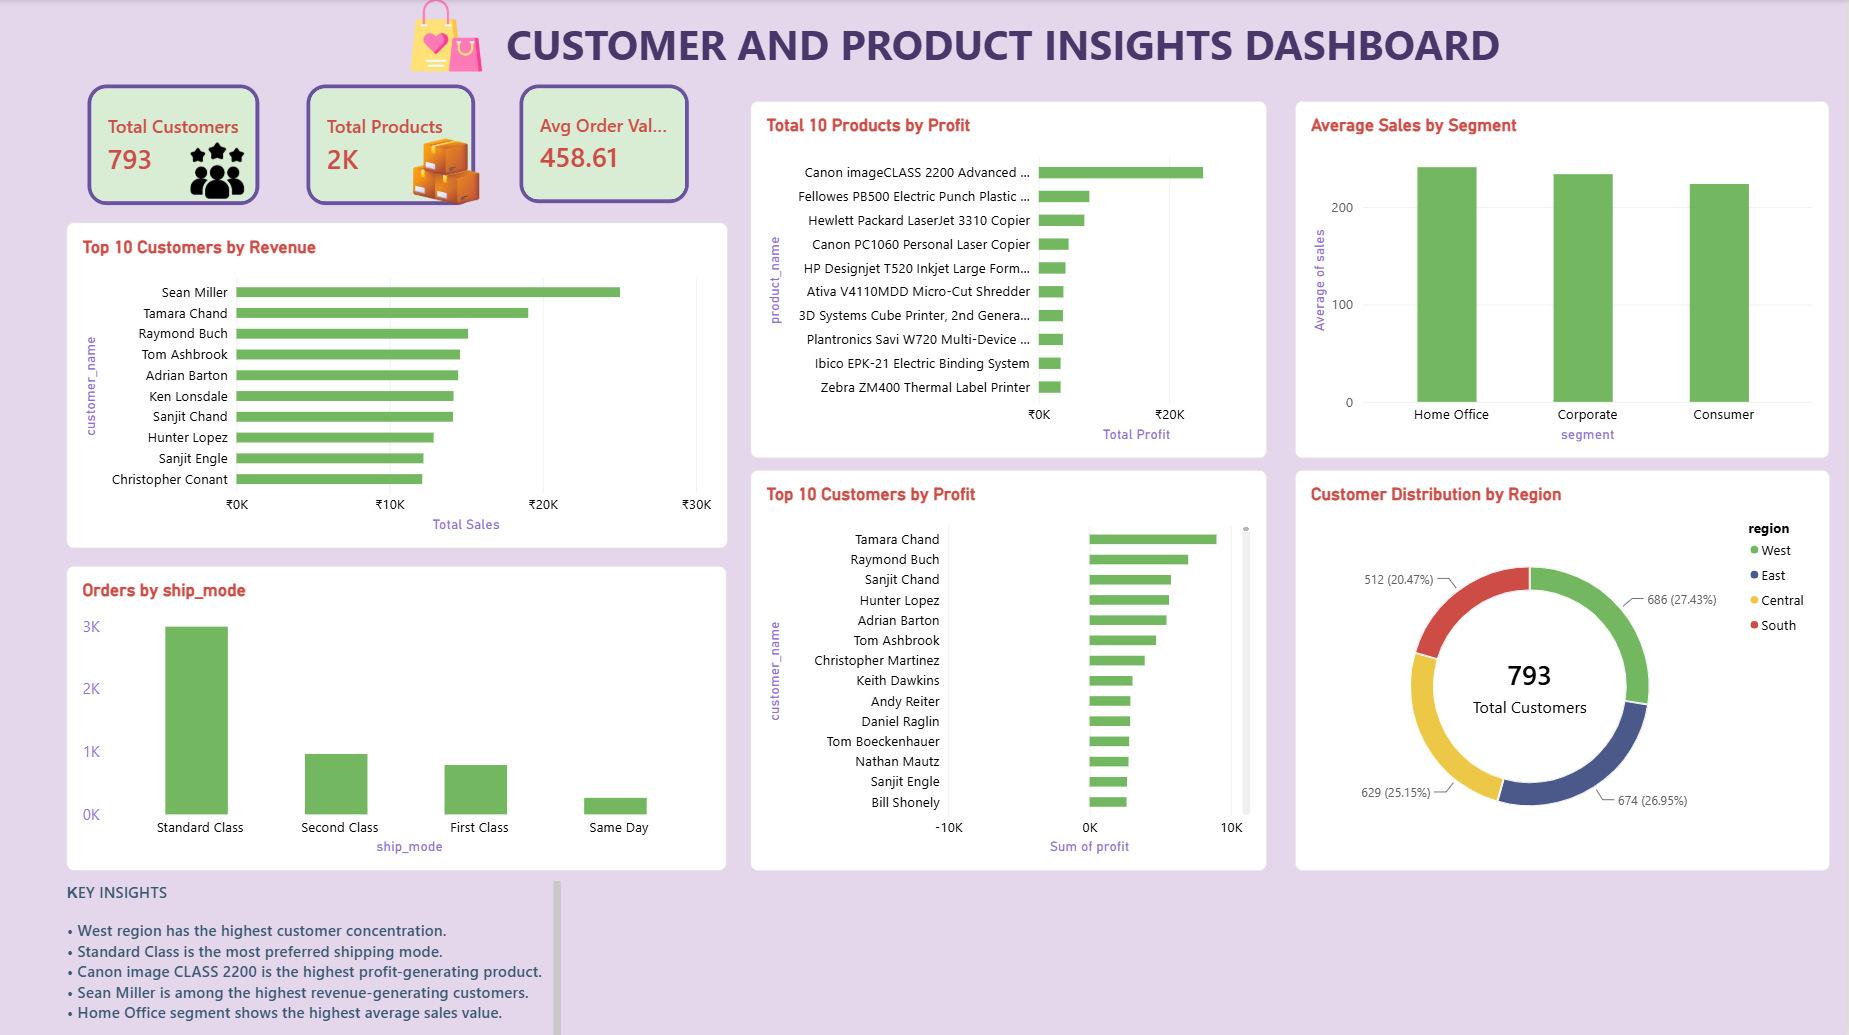

What the dashboard file says about the page in this screenshot:
{"tool":"powerbi","page":{"name":"Customer and Product Insights","canvas":[1920,1080],"ordinal":1},"visuals":[{"type":"textbox","box":[493.6,16.7,1099,71.7],"z":0},{"type":"cardVisual","fields":{"Data":["superstore_db orders.Total Customers"]},"box":[92,88.9,178.4,125.1],"z":1},{"type":"cardVisual","fields":{"Data":["superstore_db orders.Total Products"]},"box":[319.6,88.9,175.1,125.1],"z":2},{"type":"cardVisual","fields":{"Data":["superstore_db orders.Avg Order Value"]},"box":[541,88.9,176.2,123.2],"z":3},{"type":"clusteredBarChart","title":"Top 10 Customers by Revenue","fields":{"Category":["superstore_db orders.customer_name"],"Y":["superstore_db orders.Total Sales"]},"box":[70.2,232.3,687.6,338.3],"z":4},{"type":"clusteredBarChart","title":"Total 10 Products by Profit","fields":{"Category":["superstore_db orders.product_name"],"Y":["superstore_db orders.Total Profit"]},"box":[781.2,106,536.4,371.1],"z":5},{"type":"columnChart","title":"Orders by ship_mode","fields":{"Category":["superstore_db orders.ship_mode"],"Y":["superstore_db orders.Total Orders"]},"box":[70.2,589.4,686.1,316.5],"z":6},{"type":"barChart","title":"Top 10 Customers by Profit","fields":{"Category":["superstore_db orders.customer_name"],"Y":["Sum(superstore_db orders.profit)"]},"box":[781.2,489.6,536.7,416.3],"z":7},{"type":"clusteredColumnChart","title":"Average Sales by Segment","fields":{"Category":["superstore_db orders.segment"],"Y":["Avg(superstore_db orders.sales)"]},"box":[1347.2,106,555.1,371.1],"z":8},{"type":"donutChart","title":"Customer Distribution by Region","fields":{"Category":["superstore_db orders.region"],"Y":["superstore_db orders.Total Customers"]},"box":[1347.2,489.6,555.8,416.3],"z":9},{"type":"textbox","box":[1318,106,150,150],"z":10},{"type":"image","box":[413.6,0,103.4,75],"z":11},{"type":"image","box":[180.9,145,91.7,66.7],"z":12},{"type":"image","box":[427.2,145,74.8,68.6],"z":13},{"type":"textbox","box":[70,916,686,164],"z":14},{"type":"textbox","box":[69.6,916.1,514.3,162.5],"z":15}]}

Visuals, with their boxes in screenshot pixels (x1, y1, x2, y2), scaled from the page's 1920x1080 canvas onto the 1849x1035 screenshot:
textbox: Rect(475, 16, 1534, 85)
cardVisual - superstore_db orders.Total Customers: Rect(89, 85, 260, 205)
cardVisual - superstore_db orders.Total Products: Rect(308, 85, 476, 205)
cardVisual - superstore_db orders.Avg Order Value: Rect(521, 85, 691, 203)
"Top 10 Customers by Revenue" clusteredBarChart: Rect(68, 223, 730, 547)
"Total 10 Products by Profit" clusteredBarChart: Rect(752, 102, 1269, 457)
"Orders by ship_mode" columnChart: Rect(68, 565, 728, 868)
"Top 10 Customers by Profit" barChart: Rect(752, 469, 1269, 868)
"Average Sales by Segment" clusteredColumnChart: Rect(1297, 102, 1832, 457)
"Customer Distribution by Region" donutChart: Rect(1297, 469, 1833, 868)
textbox: Rect(1269, 102, 1414, 245)
image: Rect(398, 0, 498, 72)
image: Rect(174, 139, 263, 203)
image: Rect(411, 139, 483, 205)
textbox: Rect(67, 878, 728, 1034)
textbox: Rect(67, 878, 562, 1034)
